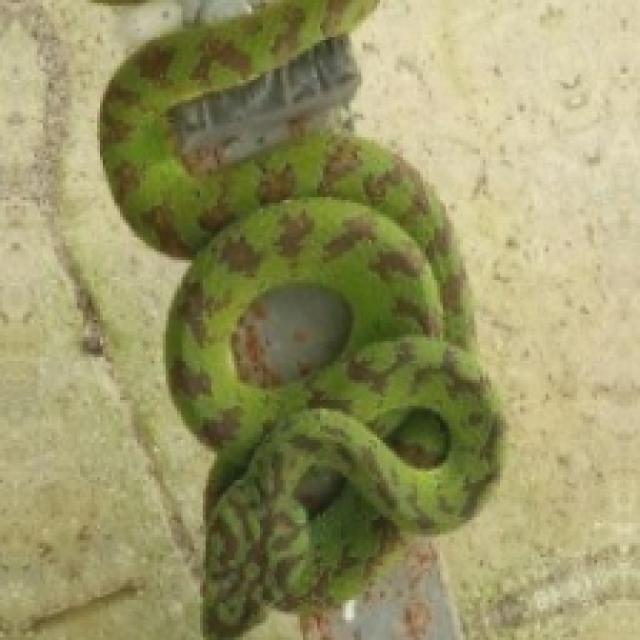philippine pitviper: (100, 0, 500, 637)
